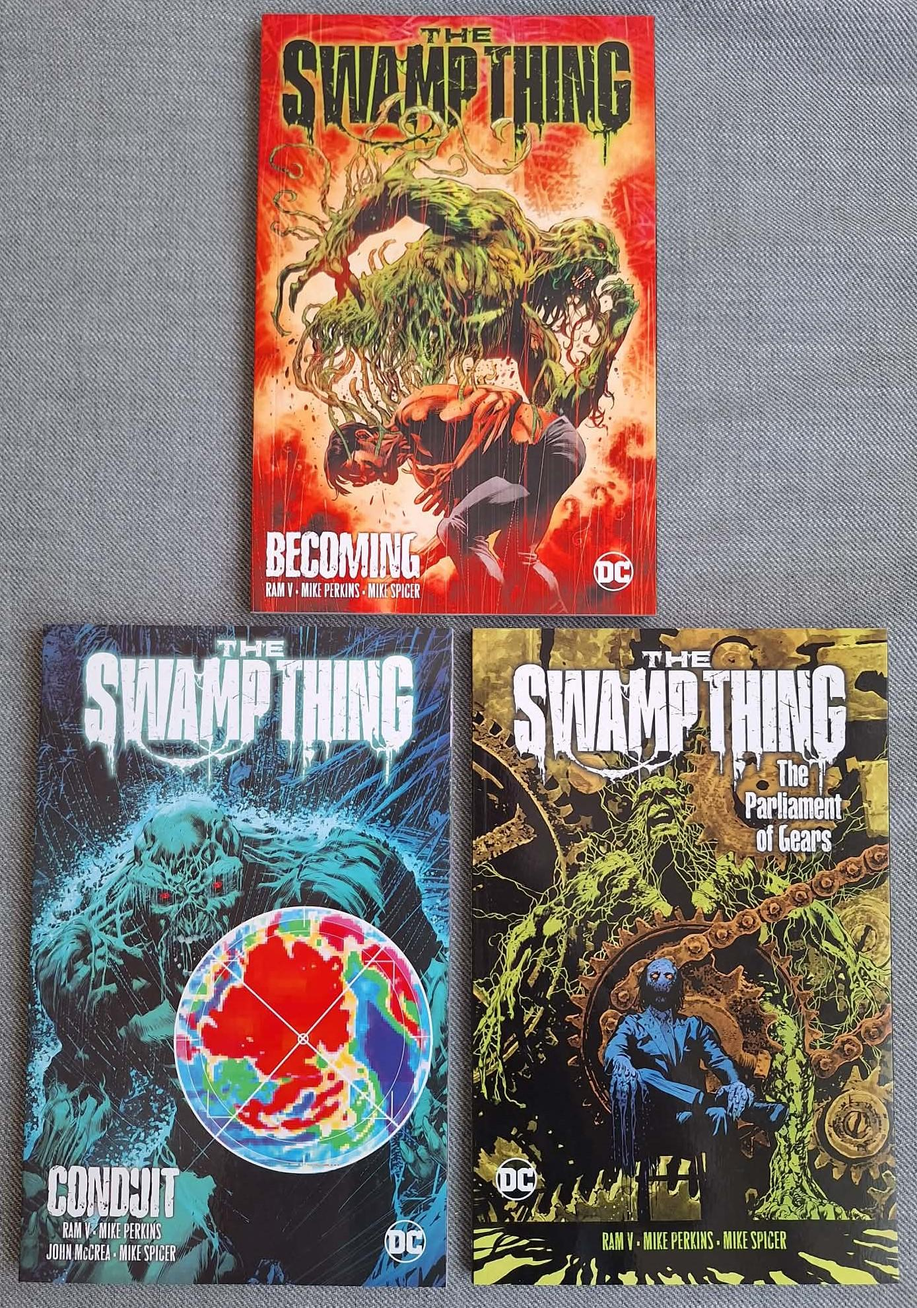comic: (21, 625, 451, 1286), (475, 629, 896, 1284), (252, 12, 661, 615)
